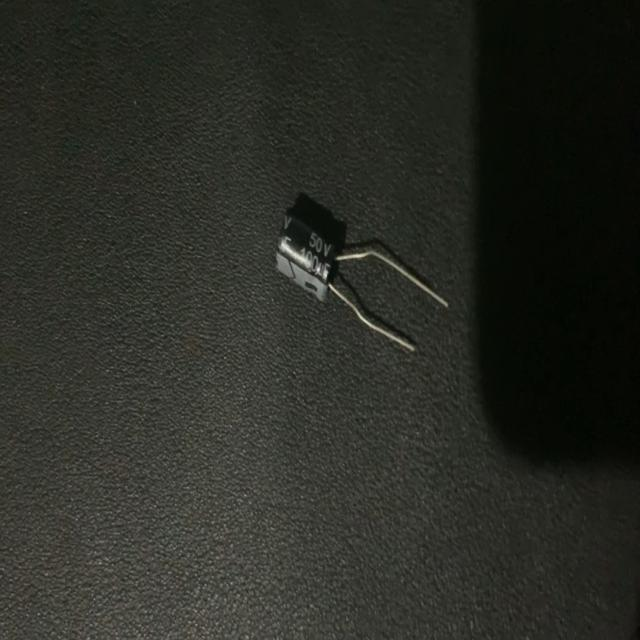capacitor: (274, 200, 450, 360)
